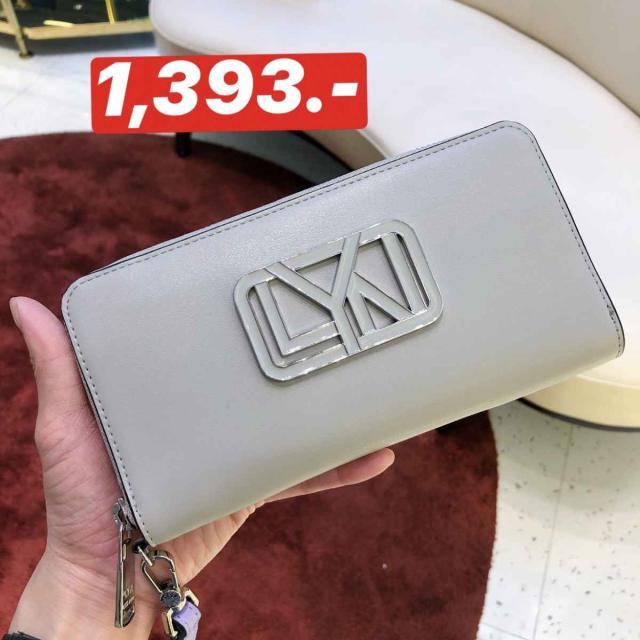handbag: (61, 120, 640, 571)
